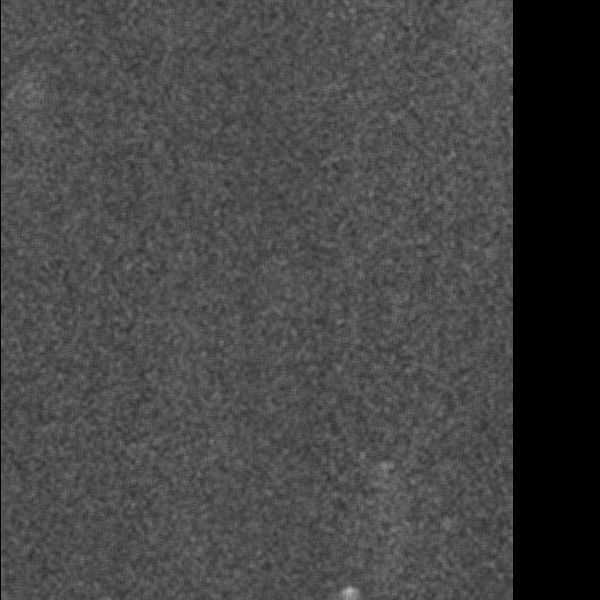spark: (14, 69, 39, 135), (369, 455, 400, 498), (336, 583, 362, 600)
